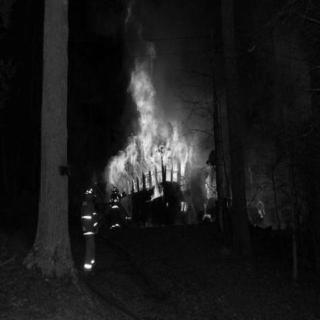Fire: (244, 169, 268, 227)
